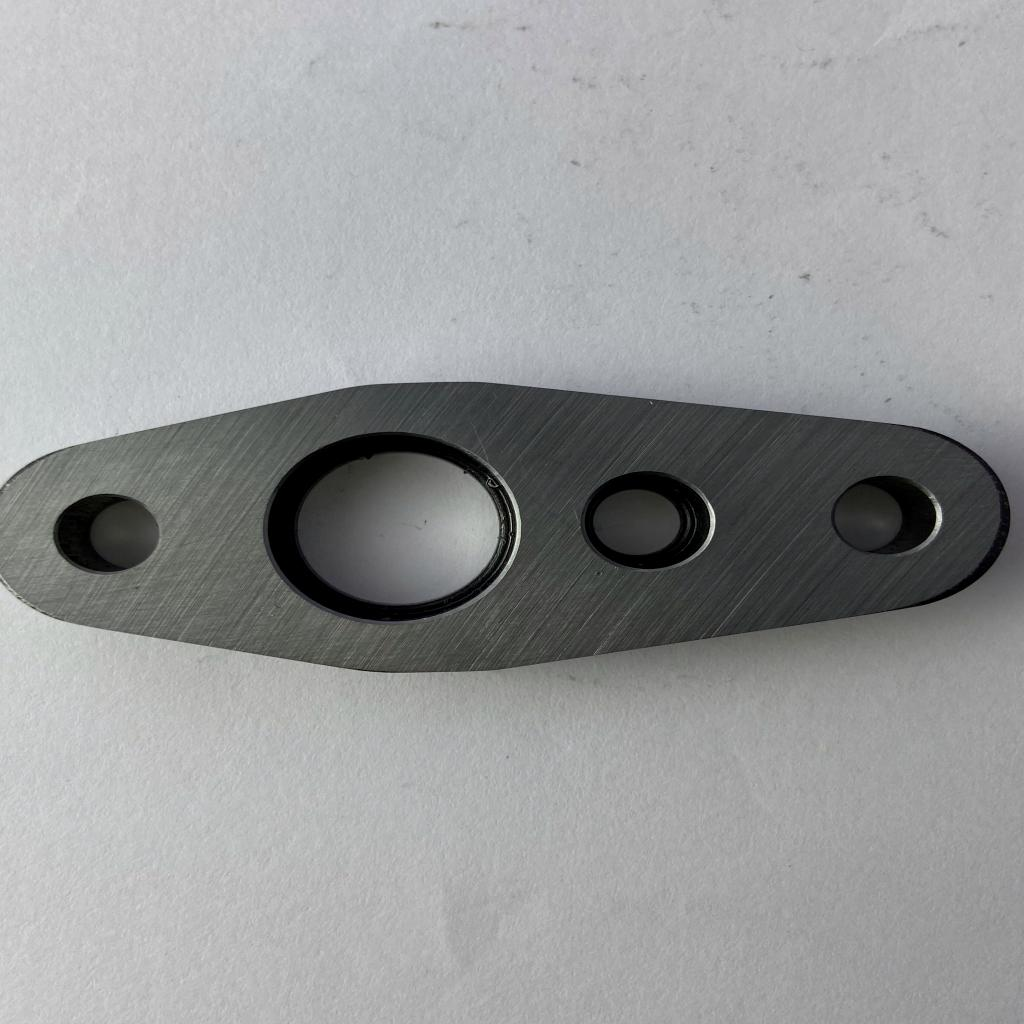chap: (593, 570, 606, 579), (647, 400, 656, 407)
